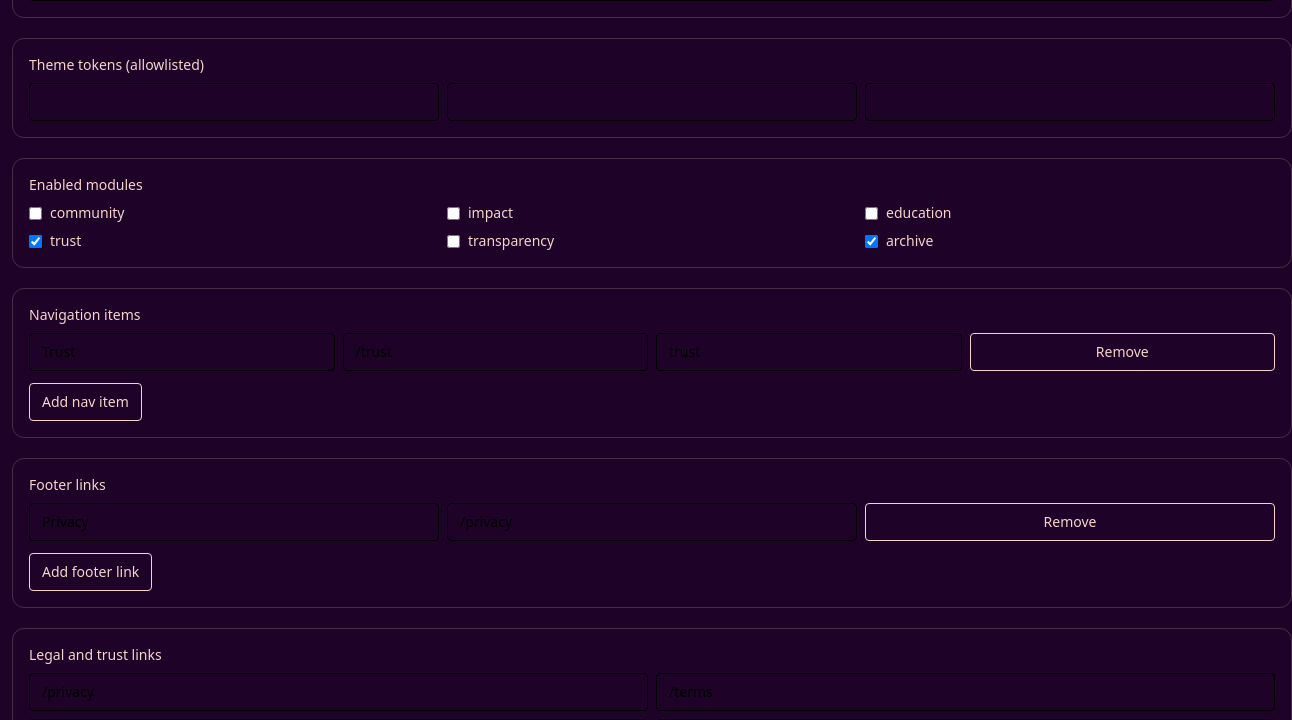
Test case: TenantManifestAuthoringPage › shows backend validation errors honestly on draft save
(page scrolled)
Replace the text in the field named "Nav href 1" with "/control/tenants" at (495, 352), box [342, 333, 648, 371]
(page scrolled)
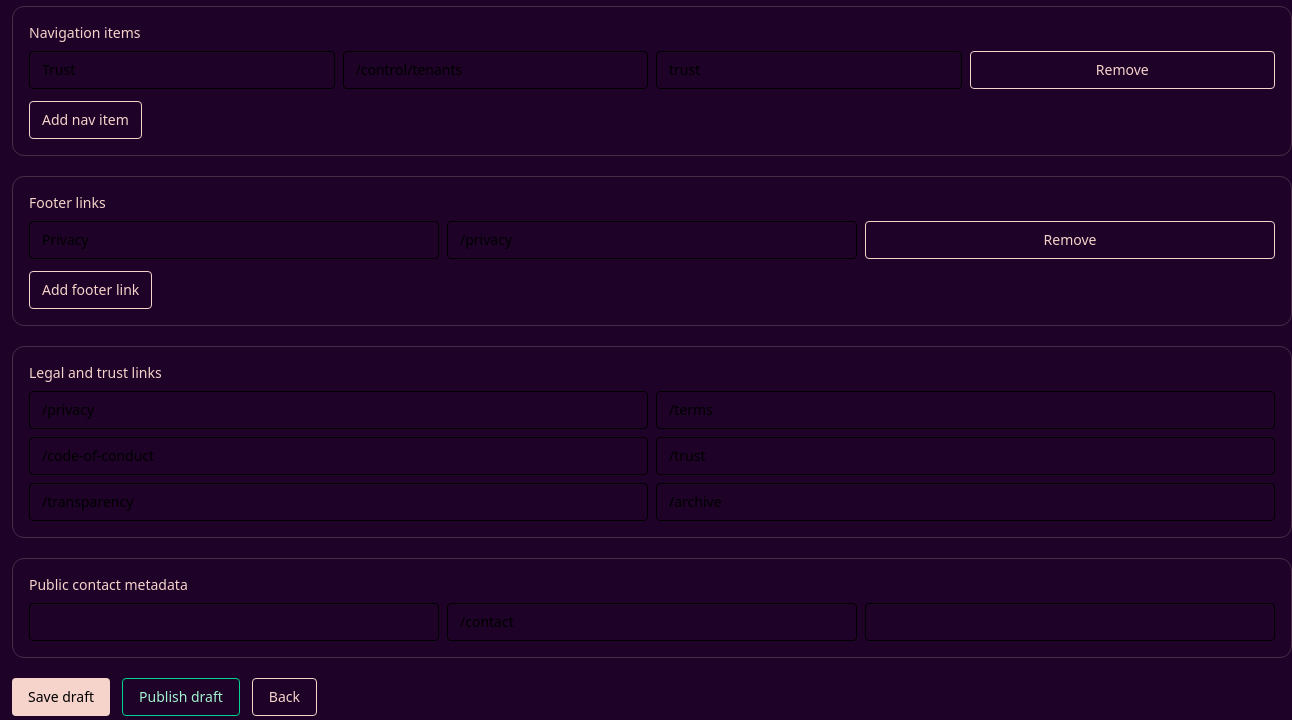
Click the button "Save draft" at (61, 697), box [12, 678, 110, 716]
(page scrolled)
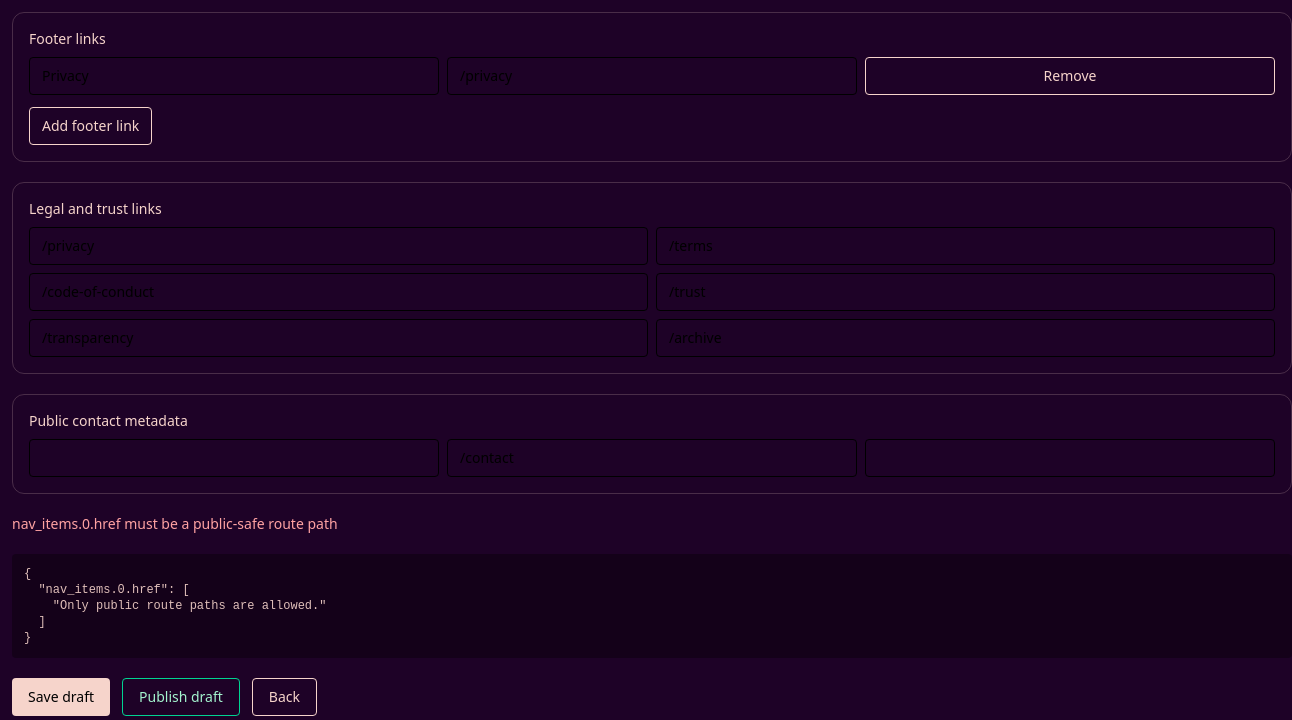
Result: the text "nav_items.0.href must be a public-safe route path" is shown at [12, 514, 338, 533]
Result: the text "Only public route paths are allowed" is shown at [24, 567, 326, 645]
